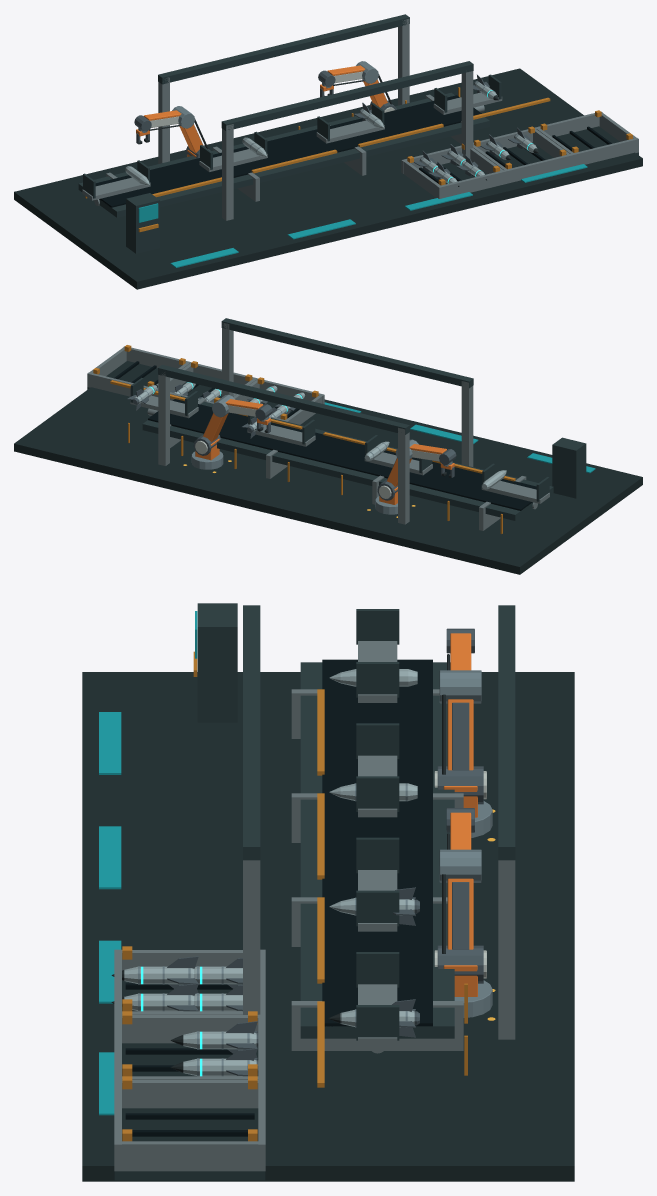
The model's file is missile_factory_d0_lod0.glb.
3 views of the same model, one above another, from view 1: azimuth 30°, elevation 25°; view 2: azimuth 150°, elevation 25°; view 3: azimuth 270°, elevation 25° (orthographic). The views are drawn at different scales.
Parts seen in each view (by area): view 1: FACTORY_STRUCTURE, STORAGE_CASE_03_FRAME, STORAGE_CASE_01_FRAME, STORAGE_CASE_02_FRAME; view 2: FACTORY_STRUCTURE, STORAGE_CASE_03_FRAME, STORAGE_CASE_01_FRAME, STORAGE_CASE_02_FRAME, FACTORY_ARM_60_Azimuth_bearing032_60, FACTORY_ARM_56_Upper_articulated_link024_56; view 3: FACTORY_STRUCTURE, STORAGE_CASE_03_FRAME, STORAGE_CASE_02_FRAME, STORAGE_CASE_01_FRAME, FACTORY_ARM_49_Elbow_drive024_49, FACTORY_ARM_18_Elbow_drive024_18, FACTORY_ARM_26_Upper_link_inset024_26, FACTORY_ARM_57_Upper_link_inset024_57, FACTORY_ARM_53_Shoulder_joint024_53, FACTORY_ARM_22_Shoulder_joint024_22, CASE_02_MISSILE_01_Tapered_missile_shell_14, CASE_01_MISSILE_03_Tapered_missile_shell_14 (+4 smaller).
Part boxes in pixels (bbox=[...]): FACTORY_STRUCTURE: bbox=[14, 14, 642, 289]; STORAGE_CASE_03_FRAME: bbox=[535, 110, 638, 166]; STORAGE_CASE_01_FRAME: bbox=[401, 143, 505, 198]; STORAGE_CASE_02_FRAME: bbox=[473, 126, 572, 183]; FACTORY_STRUCTURE: bbox=[14, 318, 642, 574]; STORAGE_CASE_03_FRAME: bbox=[87, 345, 191, 396]; STORAGE_CASE_01_FRAME: bbox=[233, 377, 324, 424]; STORAGE_CASE_02_FRAME: bbox=[153, 361, 257, 403]; FACTORY_ARM_60_Azimuth_bearing032_60: bbox=[191, 451, 223, 469]; FACTORY_ARM_56_Upper_articulated_link024_56: bbox=[203, 413, 228, 442]; FACTORY_STRUCTURE: bbox=[82, 603, 574, 1181]; STORAGE_CASE_03_FRAME: bbox=[114, 1076, 265, 1180]; STORAGE_CASE_02_FRAME: bbox=[114, 1011, 265, 1079]; STORAGE_CASE_01_FRAME: bbox=[114, 946, 265, 1014]; FACTORY_ARM_49_Elbow_drive024_49: bbox=[439, 849, 481, 882]; FACTORY_ARM_18_Elbow_drive024_18: bbox=[439, 670, 481, 703]; FACTORY_ARM_26_Upper_link_inset024_26: bbox=[452, 702, 469, 770]; FACTORY_ARM_57_Upper_link_inset024_57: bbox=[452, 882, 469, 949]; FACTORY_ARM_53_Shoulder_joint024_53: bbox=[437, 945, 483, 983]; FACTORY_ARM_22_Shoulder_joint024_22: bbox=[437, 766, 483, 804]; CASE_02_MISSILE_01_Tapered_missile_shell_14: bbox=[183, 1031, 256, 1049]; CASE_01_MISSILE_03_Tapered_missile_shell_14: bbox=[124, 966, 193, 984].
Bounding box in the file's own units: 19.15 × 3.74 × 8.
